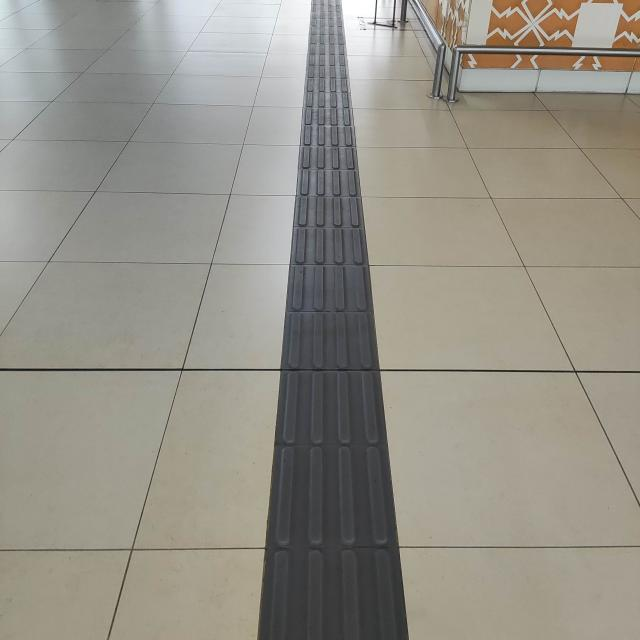lurus: (268, 15, 386, 640)
